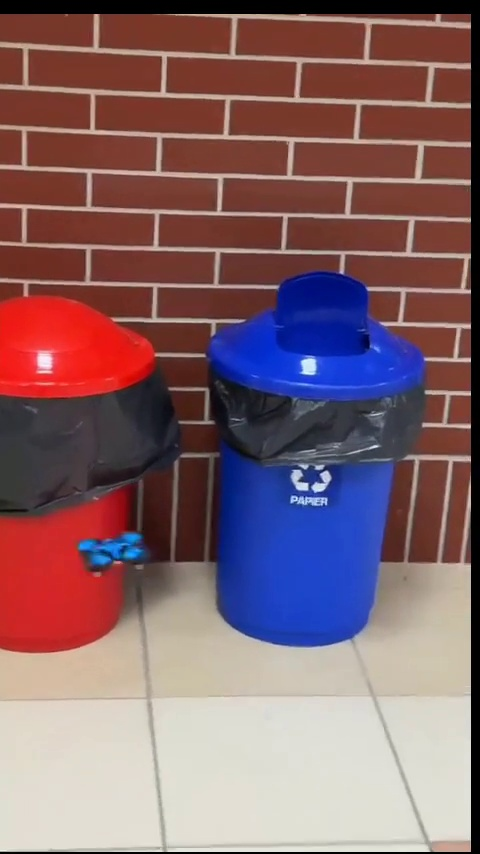drone: (78, 531, 150, 574)
